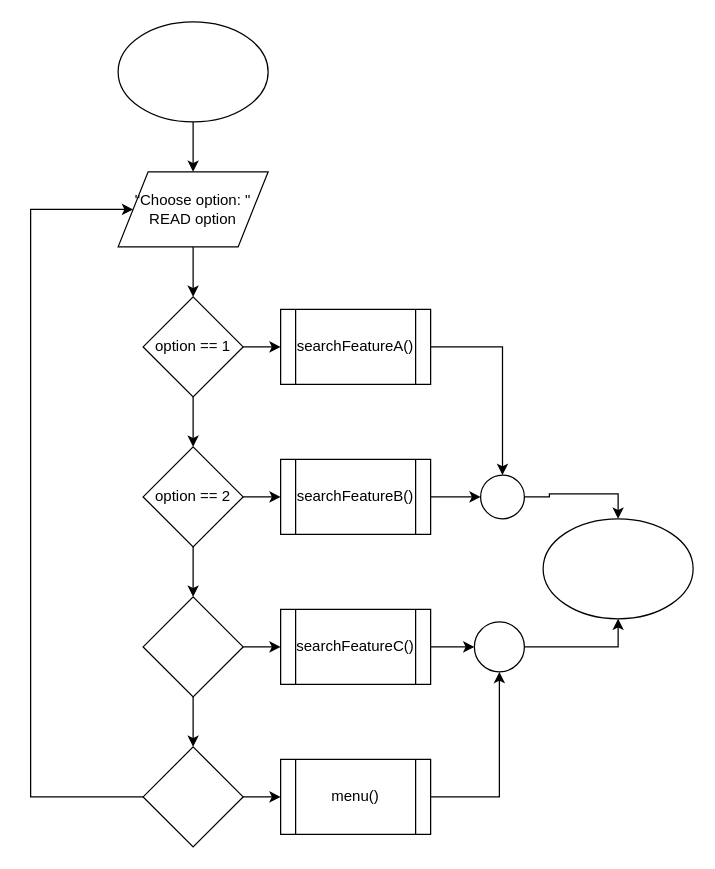
Image size: 715x869. Some labels were removed from this diagram. Each missing label, with the centre of its shape:
End: point (617, 568)
option == 3: point (192, 646)
option == 4: point (192, 796)
Start: point (192, 71)
